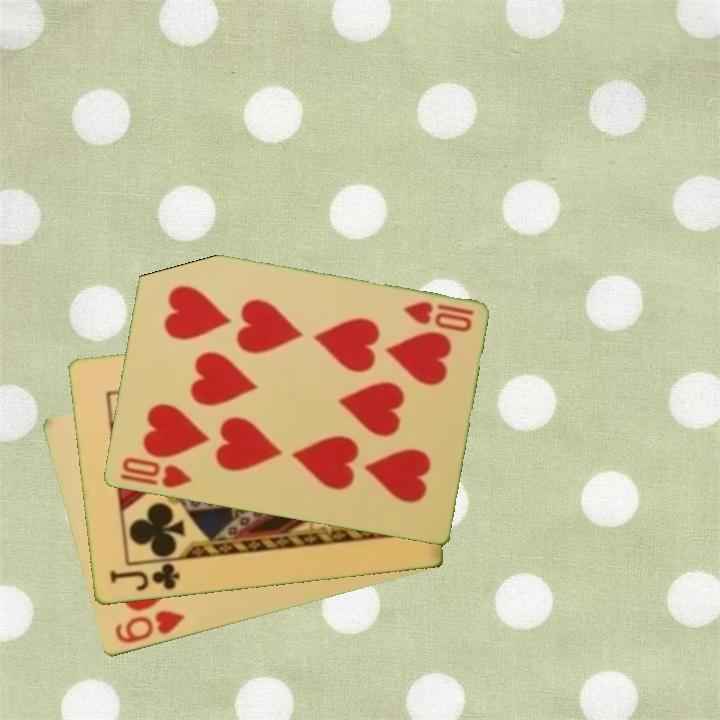10h: (399, 298, 476, 336), (116, 454, 194, 491)
6h: (111, 607, 188, 647)
Jc: (106, 560, 183, 595)
